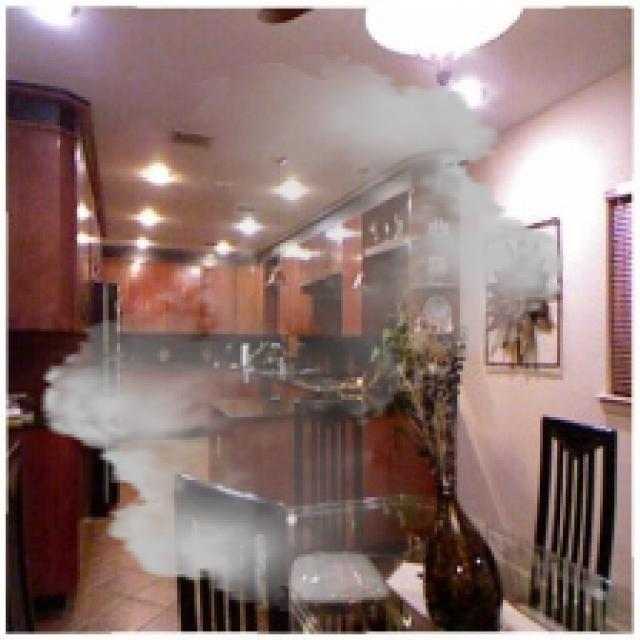Smoke: (23, 54, 583, 612)
